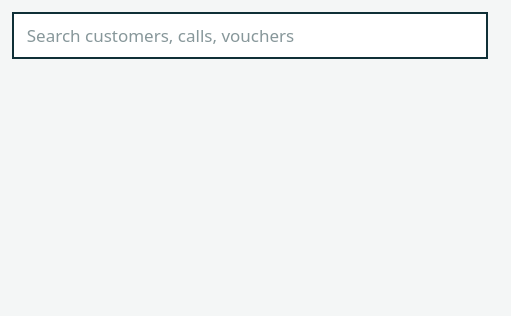
it: GlobalSearch › shows only the newest answer when an older search finishes late
The image size is (511, 316).
Type "ro" into the dropdown named "Search customers, calls and vouchers" at (250, 35), box 12,12 -> 488,59
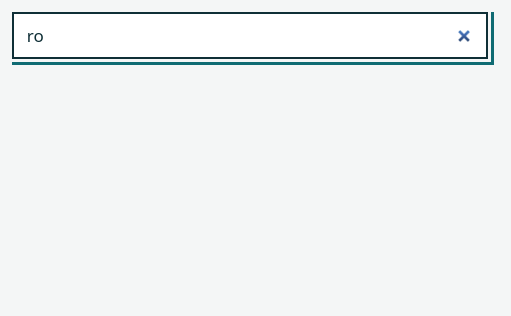
Type "h" into the dropdown named "Search customers, calls and vouchers" at (250, 35), box 12,12 -> 488,59
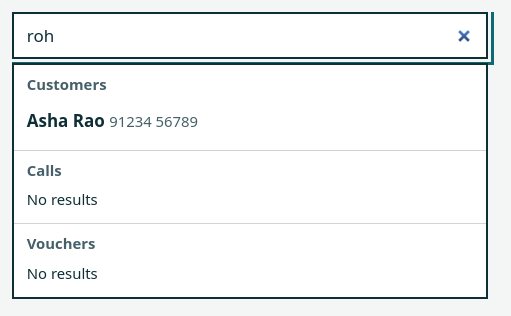
Expected: the text "Asha Rao" is shown, 27,108 -> 105,132
